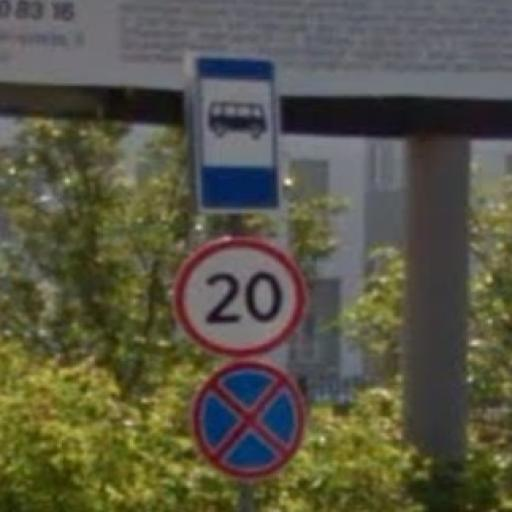traffic_sign: (174, 237, 308, 361), (191, 53, 288, 217), (191, 359, 307, 479)
